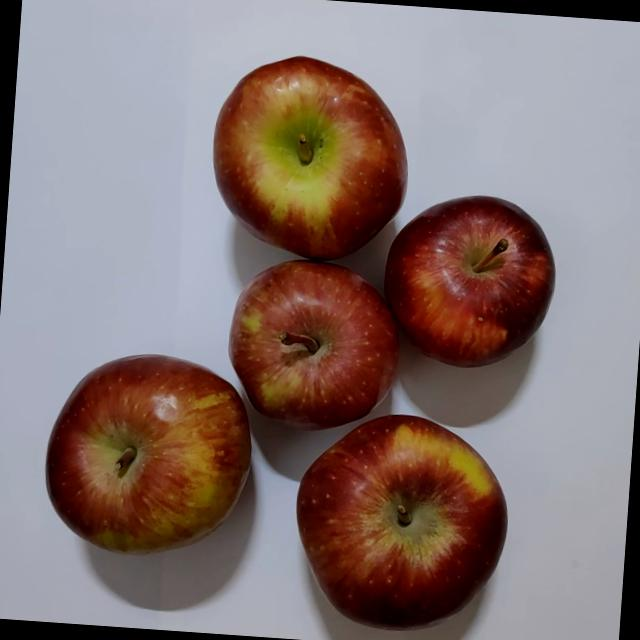apple: (276, 407, 509, 640), (191, 50, 417, 288), (38, 342, 260, 576), (366, 187, 567, 386), (213, 250, 410, 442)
